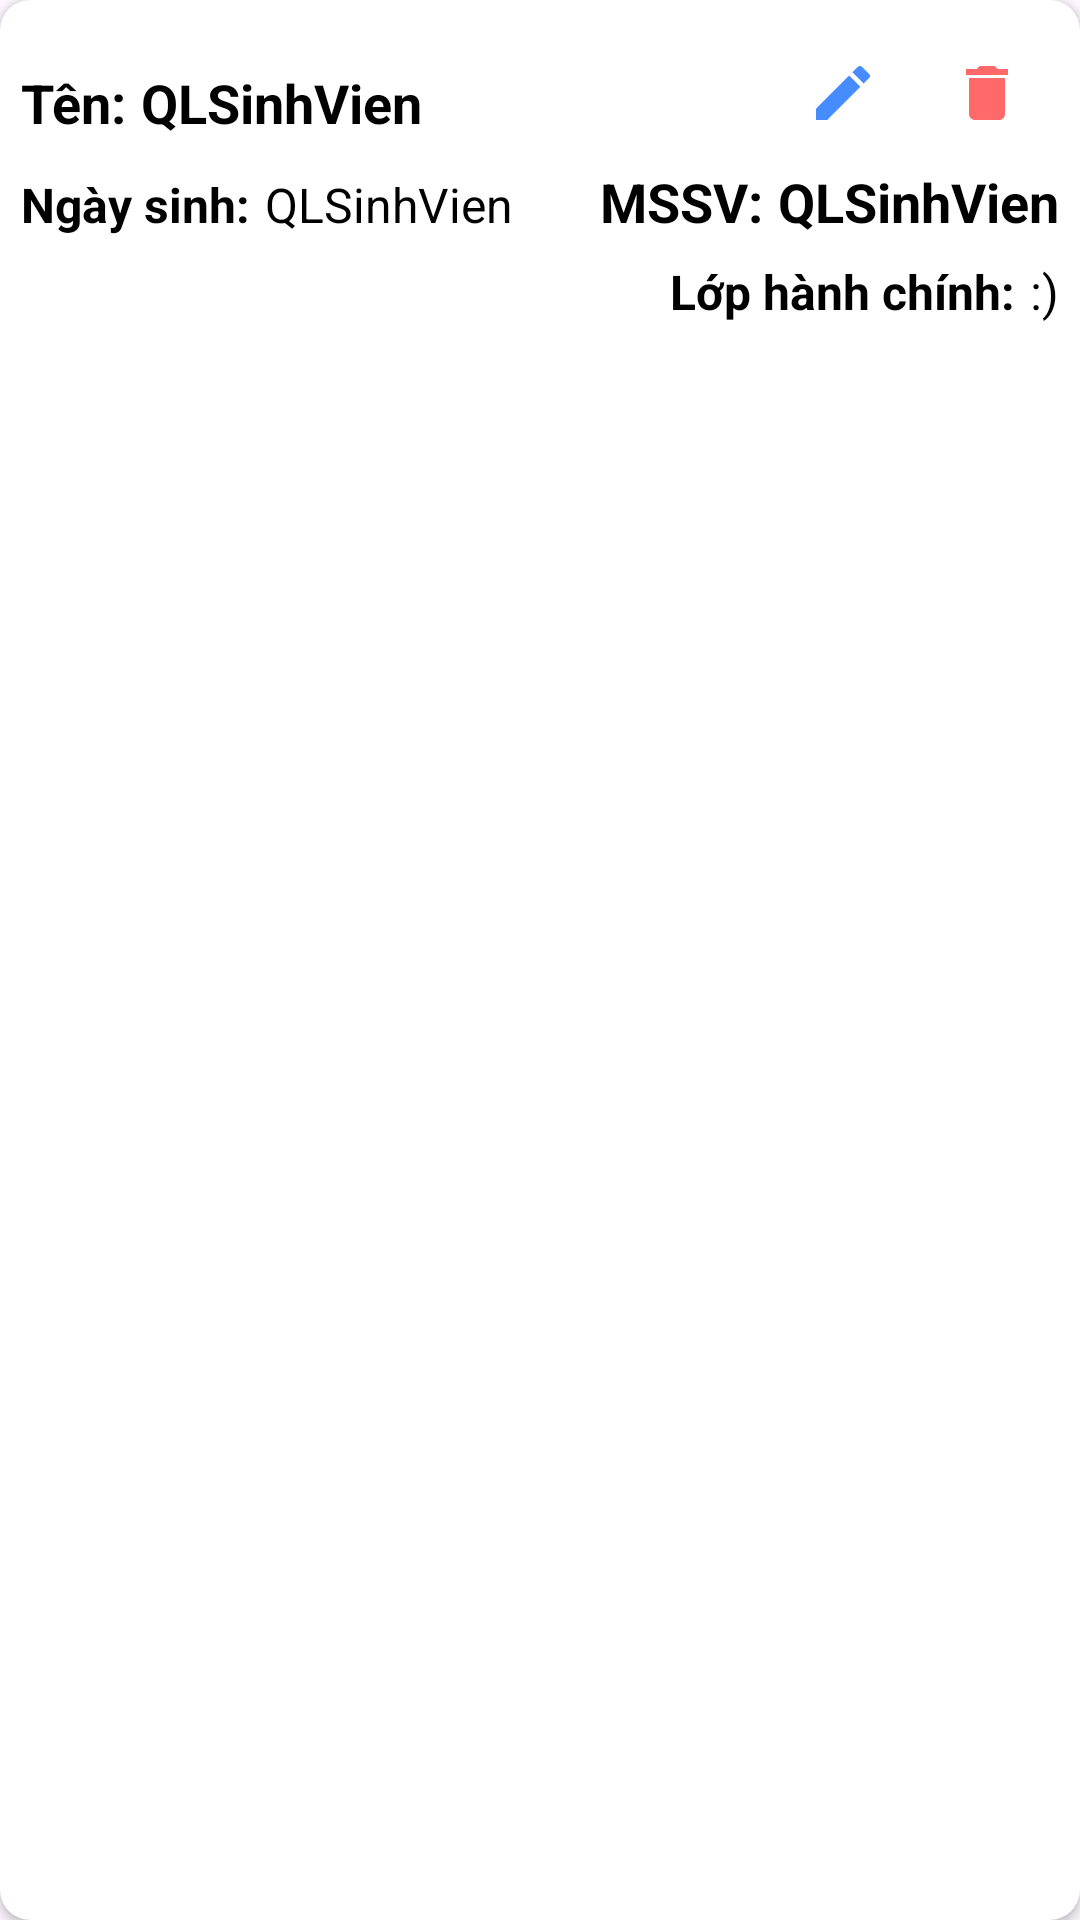

Icon bounding boxes for this 1080×1920 phone screenshot, format (x1, y1, x2, y2):
buttondelete: (966, 66, 1008, 120)
buttonedit: (816, 66, 870, 120)
